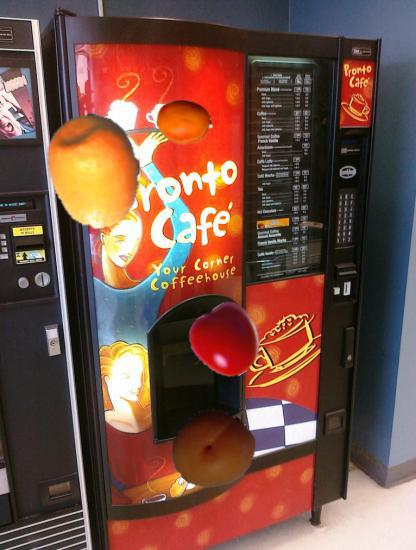Apricot: (172, 409, 255, 492), (157, 95, 211, 149)
Kumquats: (37, 114, 152, 229)
Tomato: (191, 306, 263, 378)
